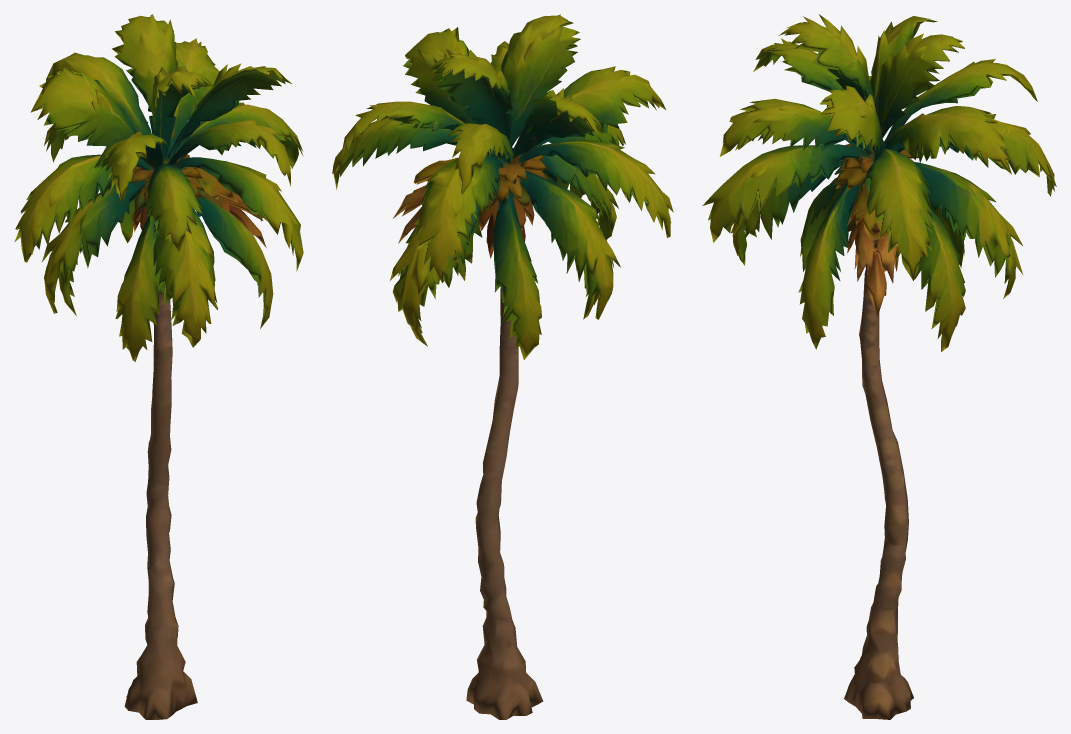
The model's file is prop.glb.
3 renders of one model, left to right at view 1: azimuth 30°, elevation 25°; view 2: azimuth 150°, elevation 25°; view 3: azimuth 270°, elevation 25°, orthographic. The views are drawn at different scales.
Parts seen in each view (by area): view 1: tripo_node_7622b687-0498-4070-b4a2-8b813ea55e6b; view 2: tripo_node_7622b687-0498-4070-b4a2-8b813ea55e6b; view 3: tripo_node_7622b687-0498-4070-b4a2-8b813ea55e6b.
Boxes of the visible parts, x1=… form: tripo_node_7622b687-0498-4070-b4a2-8b813ea55e6b: x1=14, y1=14, x2=303, y2=719; tripo_node_7622b687-0498-4070-b4a2-8b813ea55e6b: x1=332, y1=14, x2=673, y2=719; tripo_node_7622b687-0498-4070-b4a2-8b813ea55e6b: x1=702, y1=14, x2=1056, y2=719.
Size of the model in its own units: 0.4806 by 1 by 0.474.
1 material, 1 textured.
